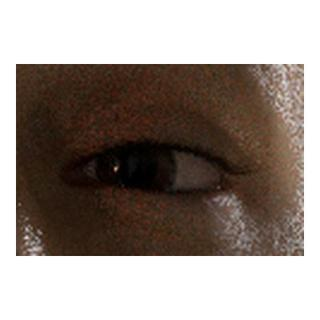pupil: (116, 151, 152, 187)
